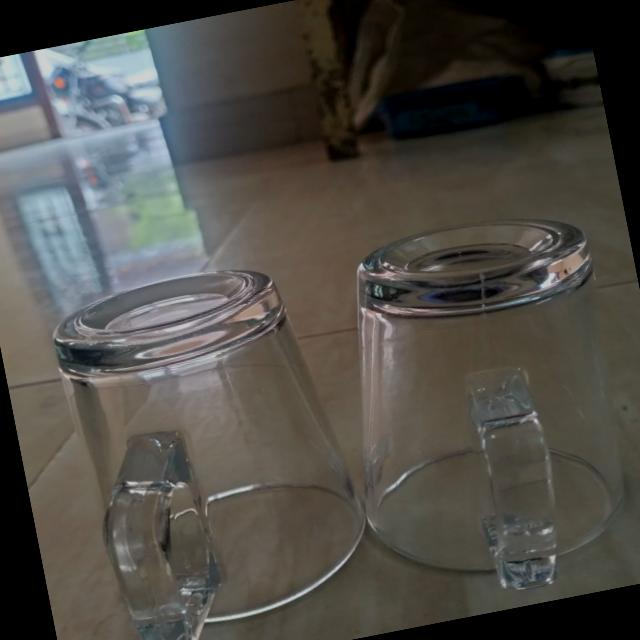glass-VX4N: (306, 189, 640, 598), (35, 249, 364, 640)
